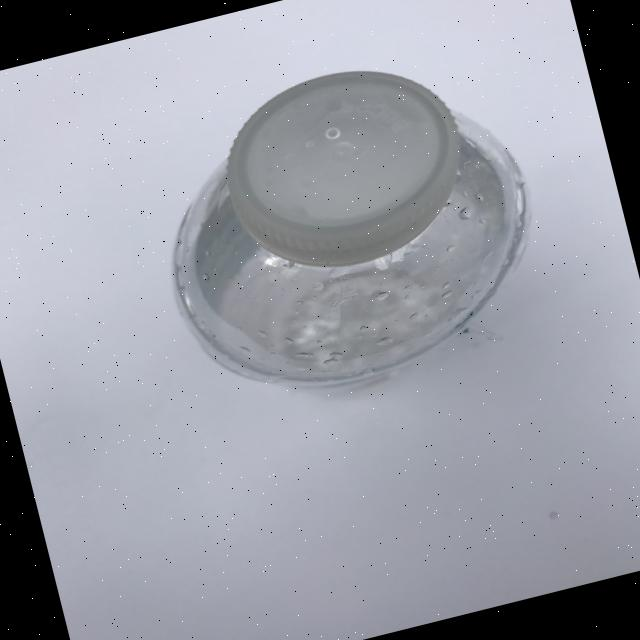plastic: (130, 32, 562, 420)
